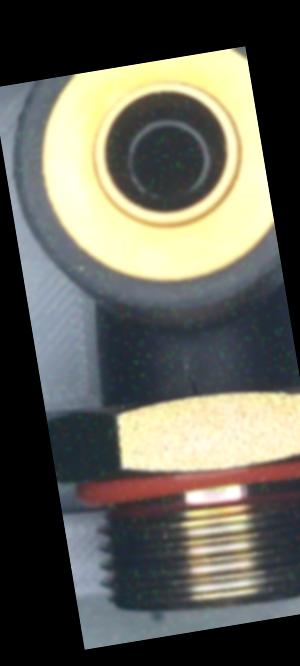craze: (179, 360, 204, 402)
